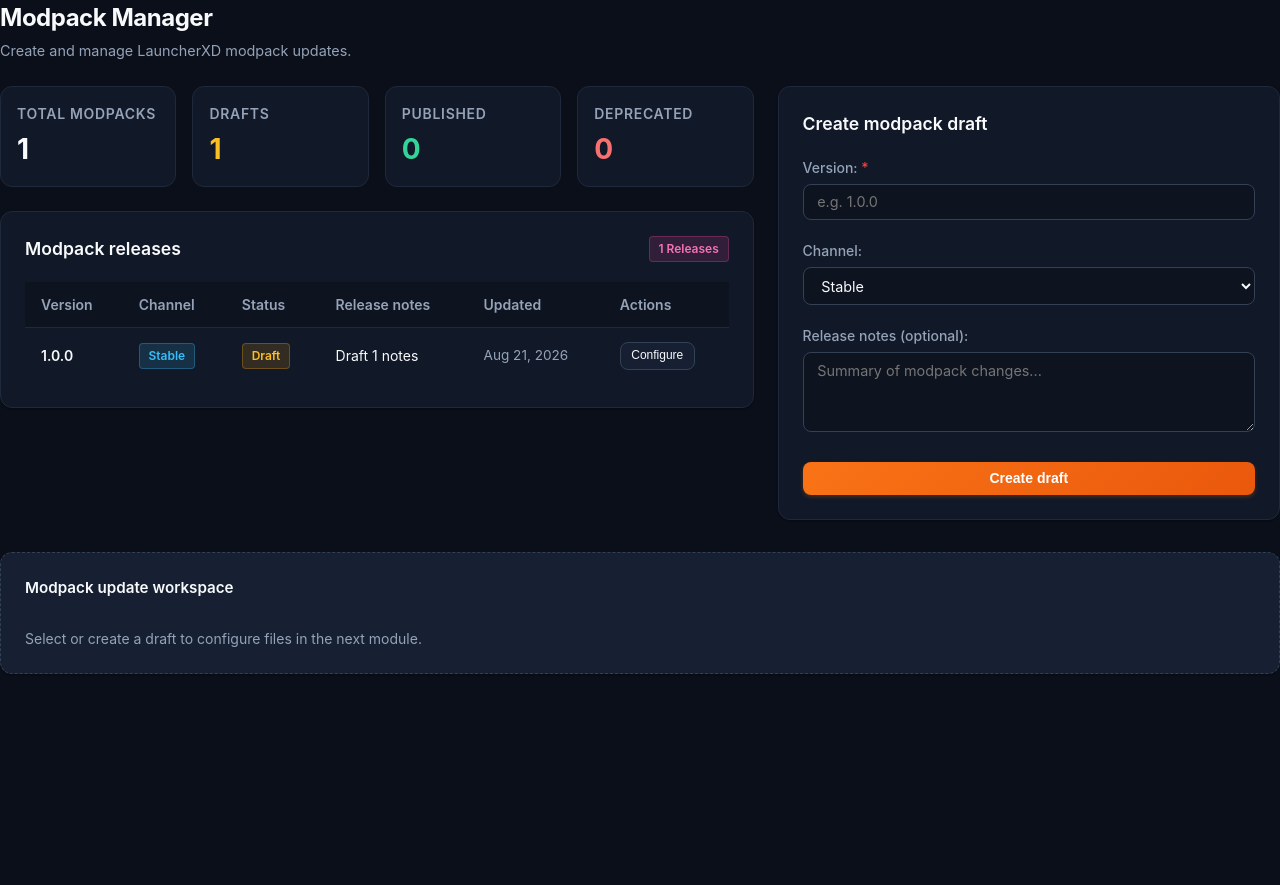
Test case: Modpack Workspace Inline UI Functional Tests (Module 3B-1) › 3. ReleaseFilesTable displays real files
Click the button with test id "configure-modpack-modpack-draft-1" at x=657, y=356, box [620,342,695,370]
(page scrolled)
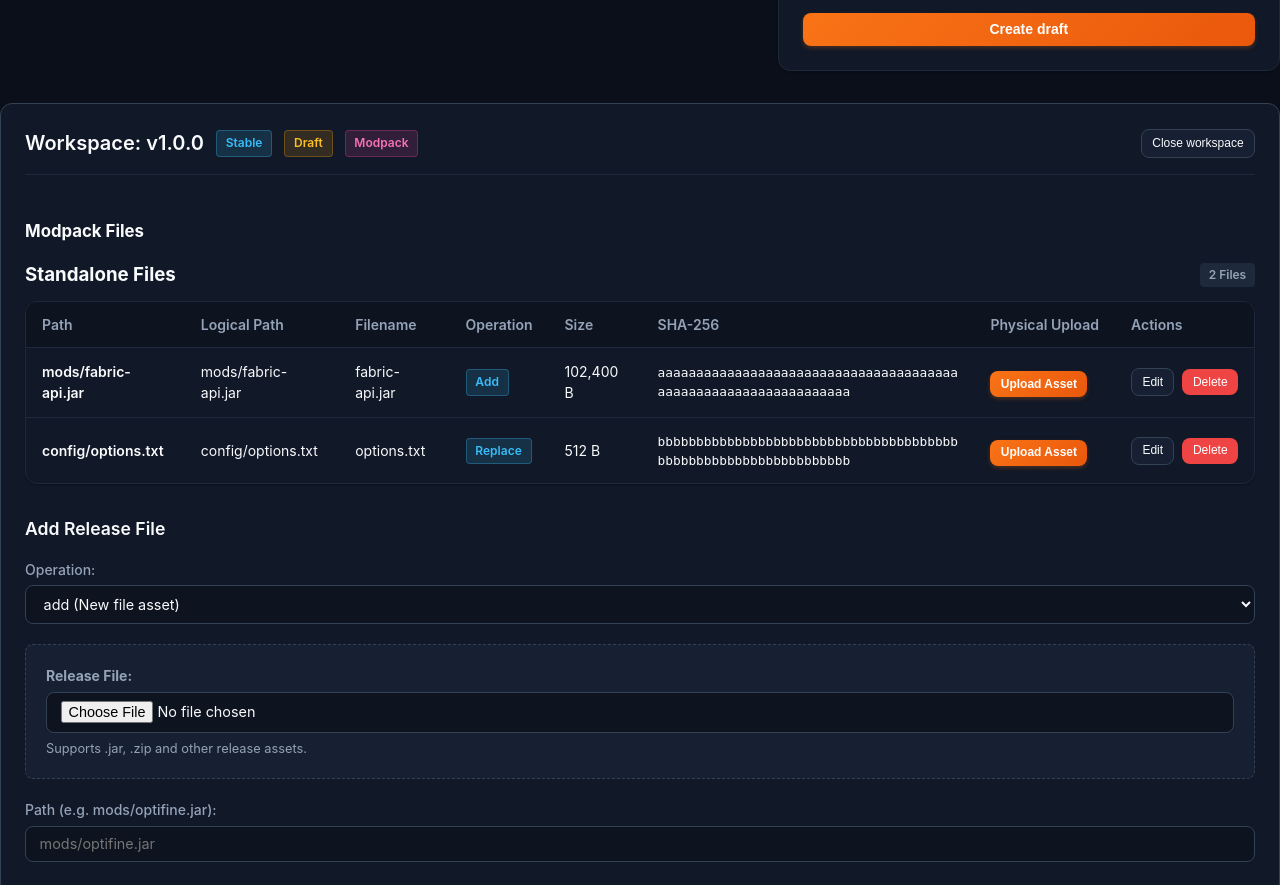
expect the 1st text "mods/fabric-api.jar" is shown: met, box [26,347,185,417]
expect the 1st text "config/options.txt" is shown: met, box [26,417,185,484]
